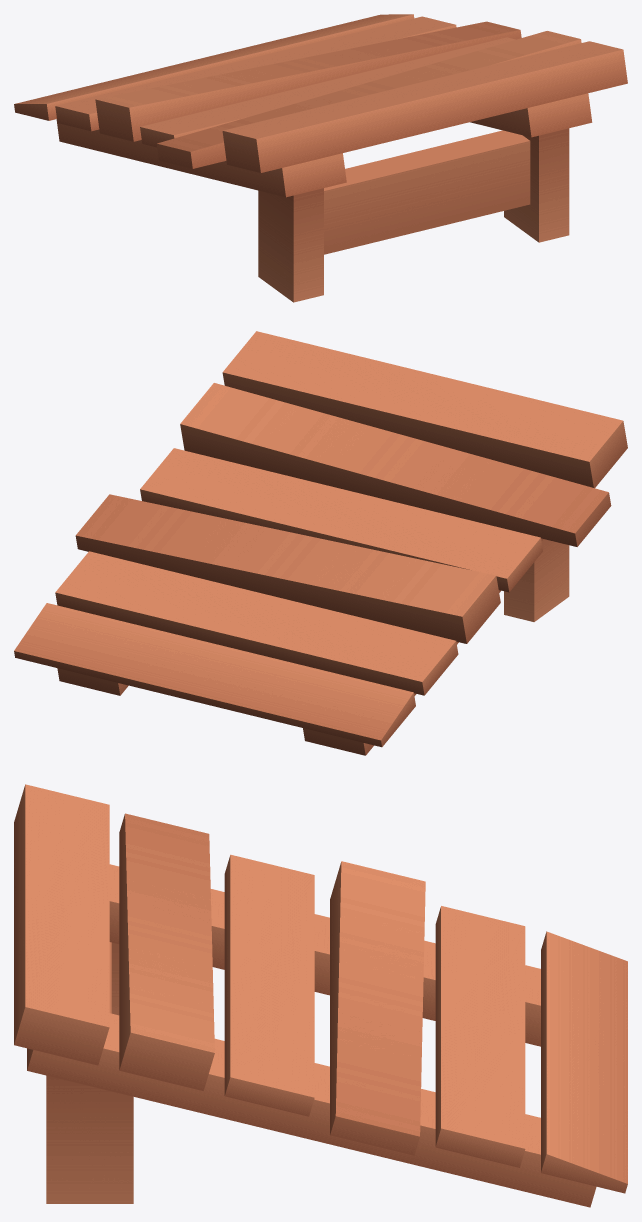
File: ramp.glb
3 renders of one model, top to bottom at view 1: azimuth 30°, elevation 25°; view 2: azimuth 150°, elevation 25°; view 3: azimuth 270°, elevation 25°, orthographic. The views are drawn at different scales.
Parts seen in each view (by area): view 1: ramp; view 2: ramp; view 3: ramp.
Part boxes in pixels (x1,y1,x2,y2): ramp: [14, 14, 627, 302]; ramp: [14, 331, 627, 755]; ramp: [14, 784, 627, 1207].
Bounding box in the file's own units: 2.73 × 1.14 × 2.81.
Materials: 1 (1 with a texture image).
